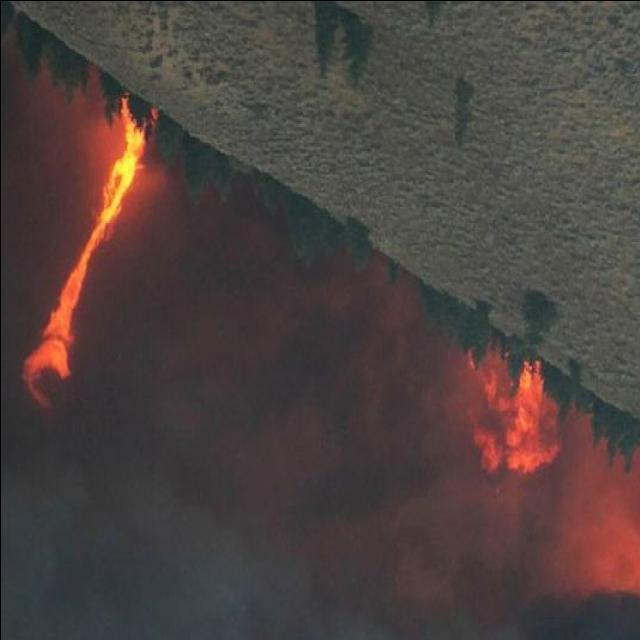Fire: (15, 99, 158, 410), (459, 345, 567, 495)
